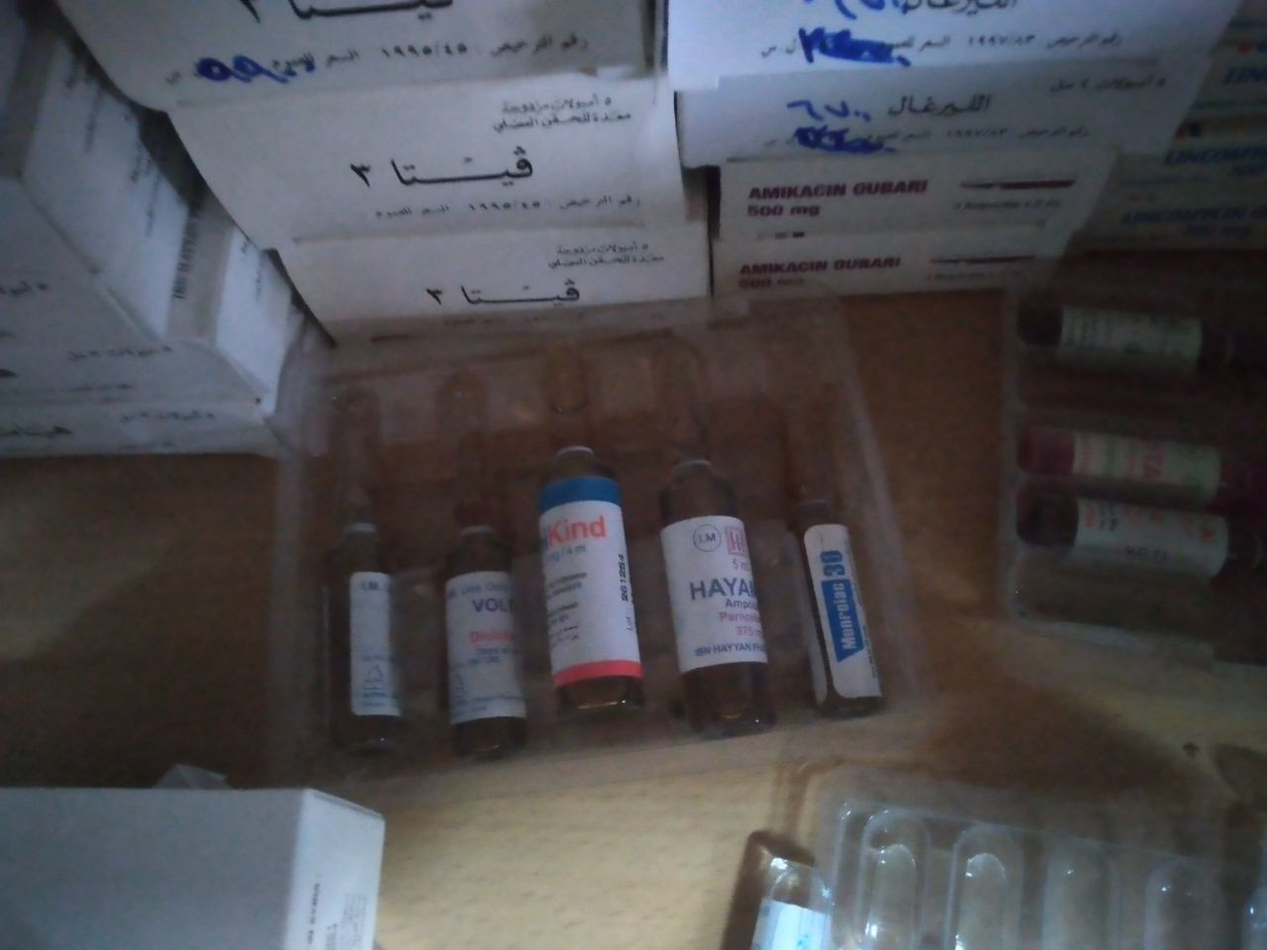Medicine: (634, 332, 775, 732), (517, 346, 661, 730), (765, 344, 896, 725), (314, 393, 421, 762), (438, 376, 527, 755), (1007, 275, 1267, 383), (1015, 406, 1267, 500), (1020, 515, 1267, 576)
